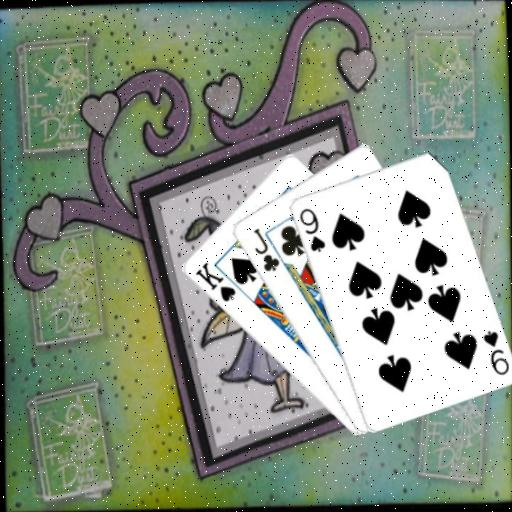9S: (296, 204, 327, 254), (479, 327, 510, 377)
JC: (250, 224, 281, 274)
KS: (191, 258, 237, 304)
